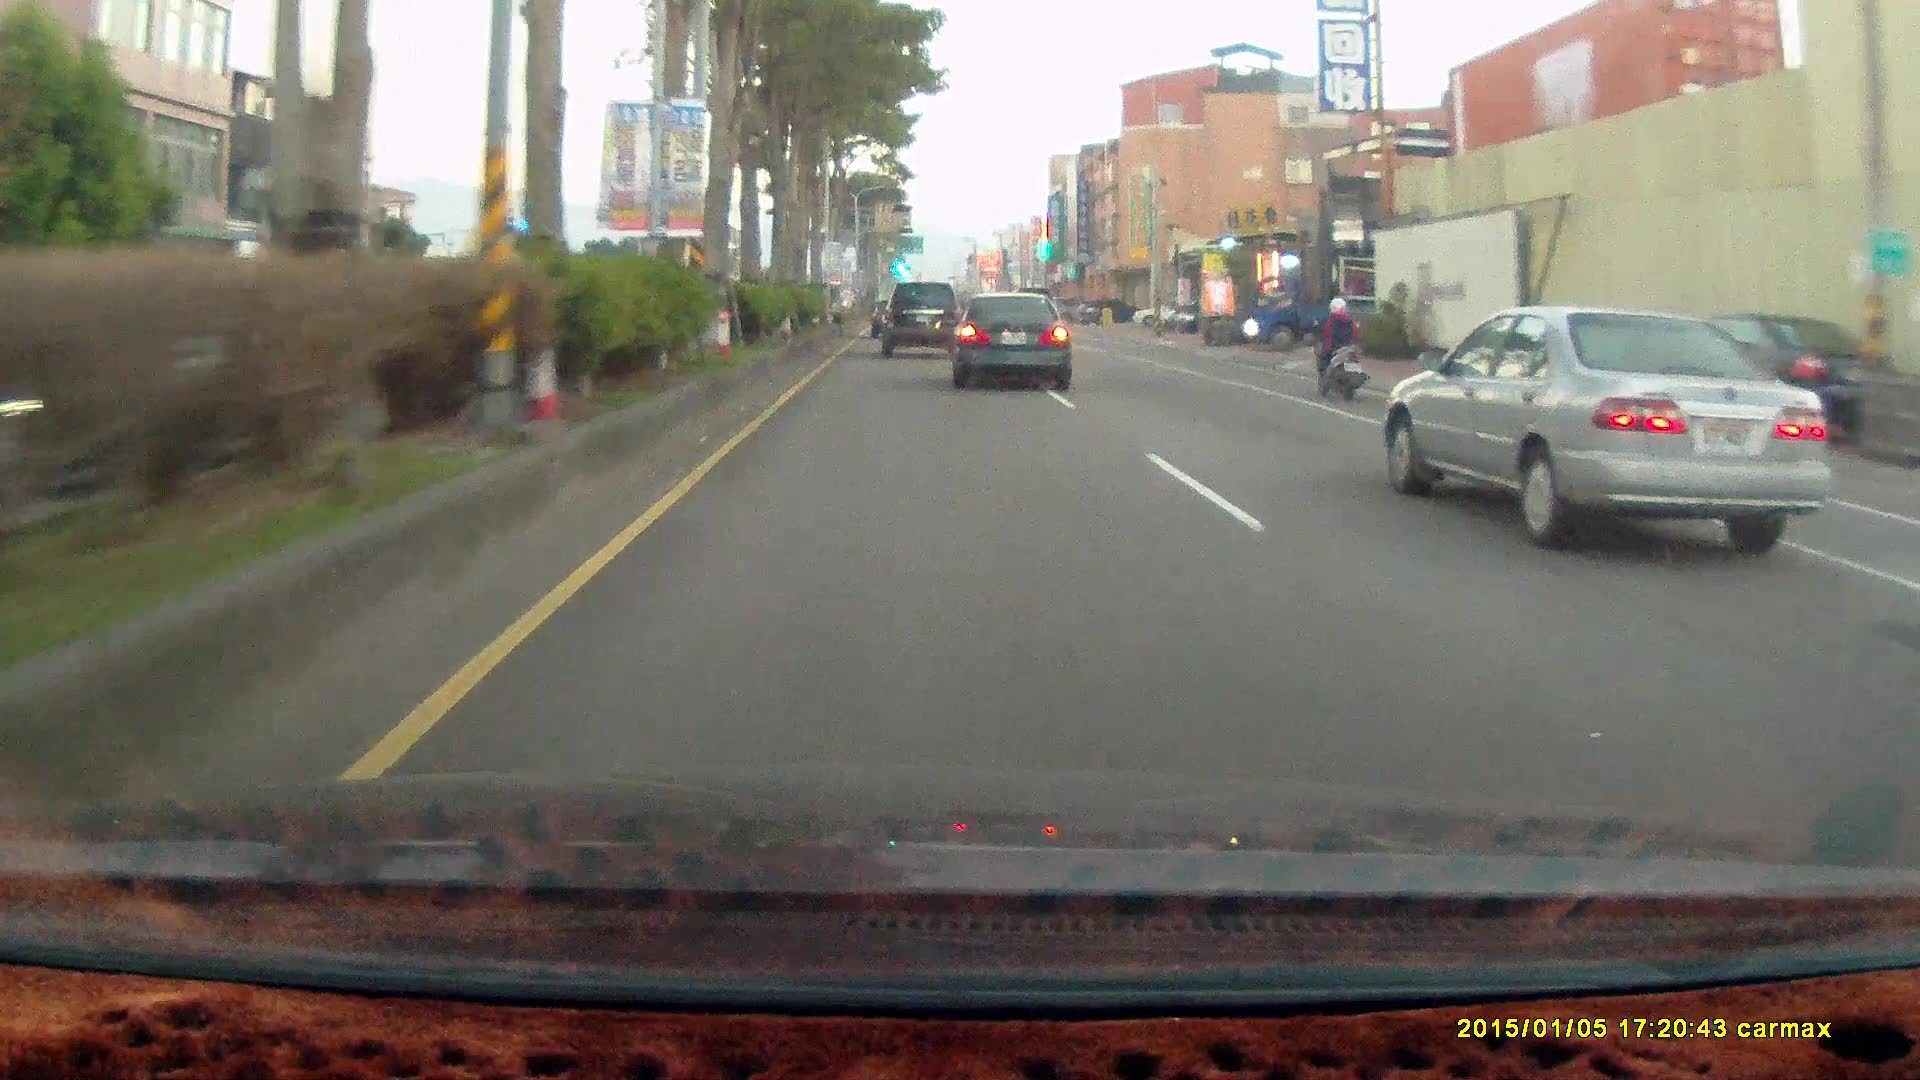rider: (1301, 287, 1378, 411), (1308, 291, 1367, 402)
vehicle: (1379, 300, 1833, 555), (1379, 300, 1835, 553), (949, 289, 1072, 390), (953, 292, 1078, 391), (1242, 273, 1390, 352), (1242, 267, 1385, 344), (881, 280, 961, 354), (878, 282, 961, 354), (1129, 297, 1189, 324), (1078, 298, 1138, 323)
